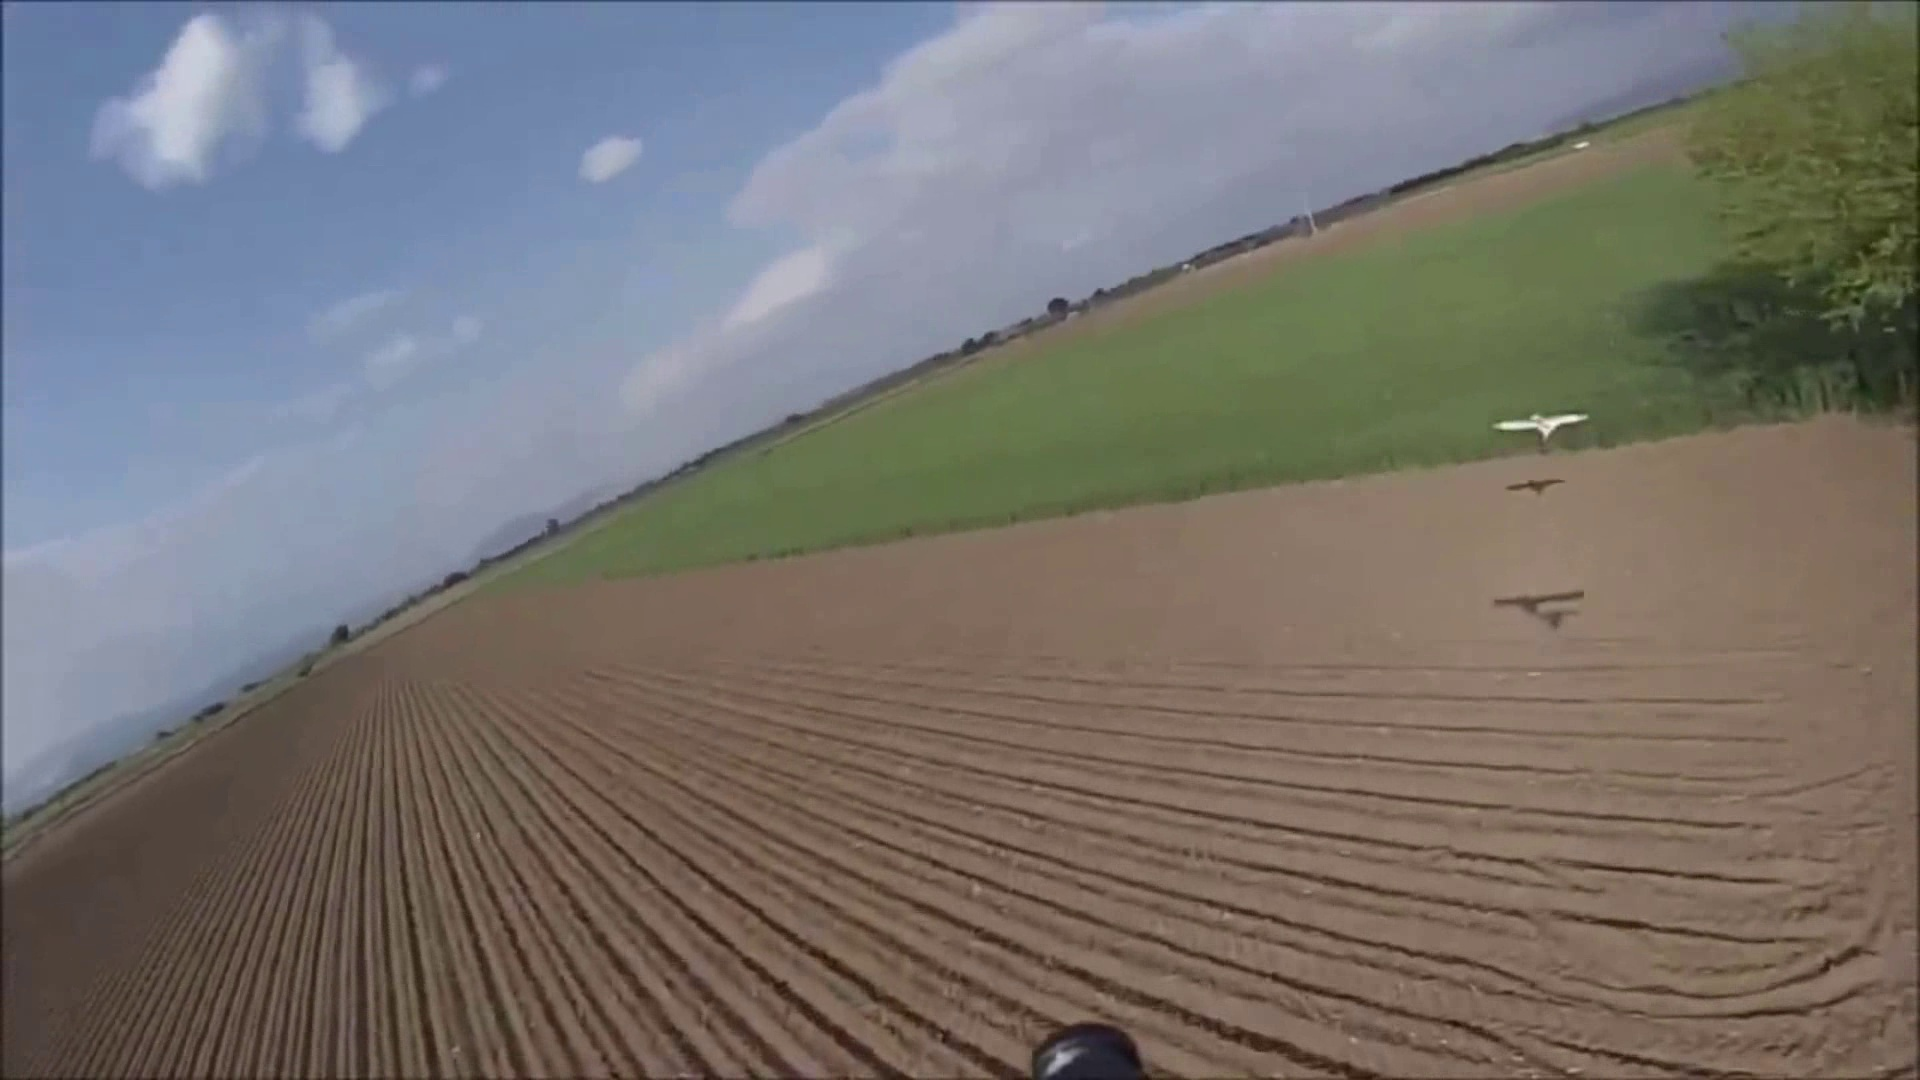airplane: (1491, 585, 1586, 628), (1491, 410, 1586, 444)
